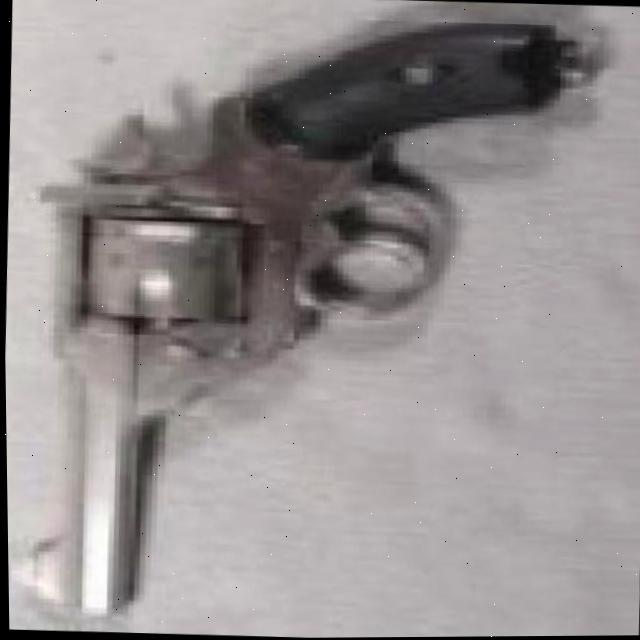gun: (5, 6, 567, 627)
